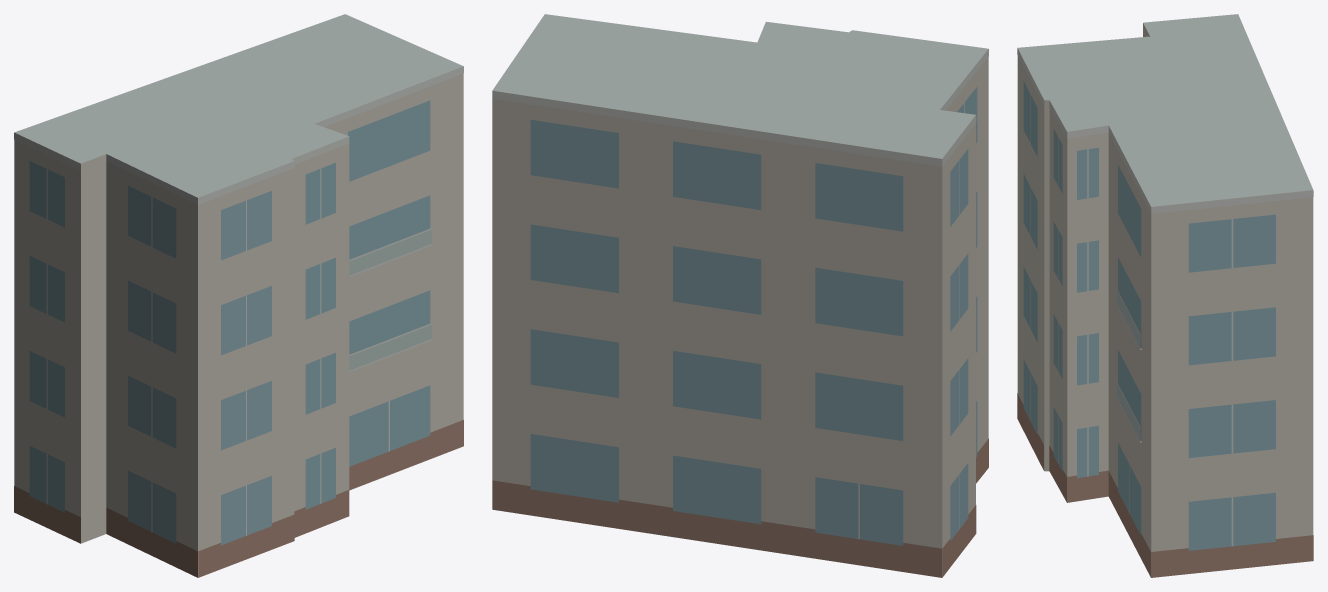
The model's file is survey-upis-32462883.glb.
The picture shows the model from 3 angles, left to right: view 1: azimuth 30°, elevation 25°; view 2: azimuth 150°, elevation 25°; view 3: azimuth 270°, elevation 25°; orthographic projection. The views are drawn at different scales.
Visible parts, largest first — view 1: survey-upis-32462883.tmp; view 2: survey-upis-32462883.tmp; view 3: survey-upis-32462883.tmp.
Part boxes in pixels (bbox=[...]): survey-upis-32462883.tmp: bbox=[14, 14, 463, 577]; survey-upis-32462883.tmp: bbox=[492, 14, 988, 577]; survey-upis-32462883.tmp: bbox=[1017, 14, 1313, 577].
Bounding box in the file's own units: 14.62 × 13.1 × 9.49.
